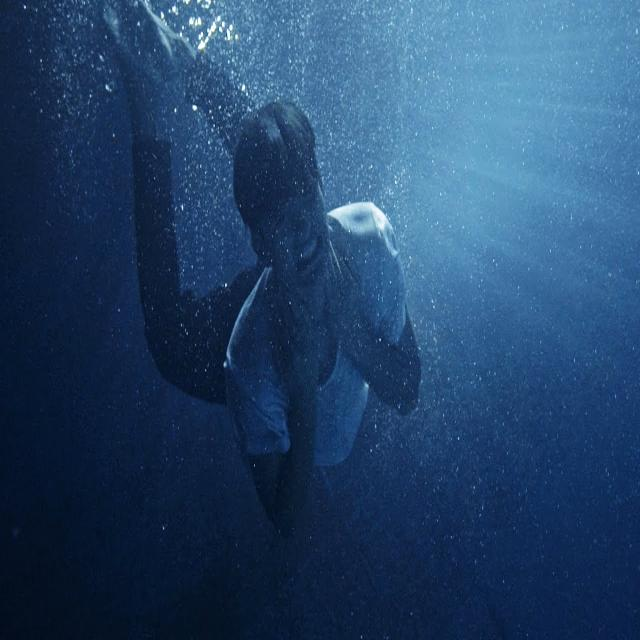drowning: (76, 0, 451, 548)
